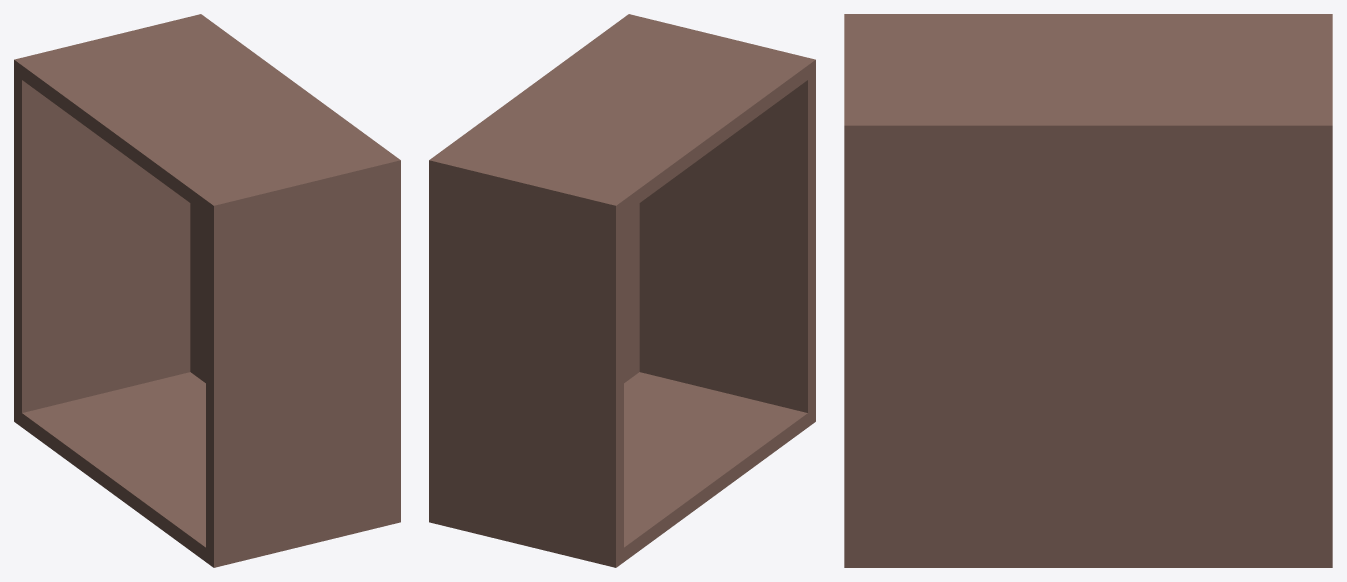
Rendered from SimpleBox04.fbx.
3 renders of one model, left to right at view 1: azimuth 30°, elevation 25°; view 2: azimuth 150°, elevation 25°; view 3: azimuth 270°, elevation 25°, orthographic. The views are drawn at different scales.
Visible parts, largest first — view 1: SimpleBox04; view 2: SimpleBox04; view 3: SimpleBox04.
Boxes of the visible parts, left/top/right/bottom form: SimpleBox04: left=14, top=14, right=400, bottom=567; SimpleBox04: left=429, top=14, right=815, bottom=567; SimpleBox04: left=844, top=14, right=1332, bottom=567.
Size of the model in its own units: 0.2703 by 0.5 by 0.5.
